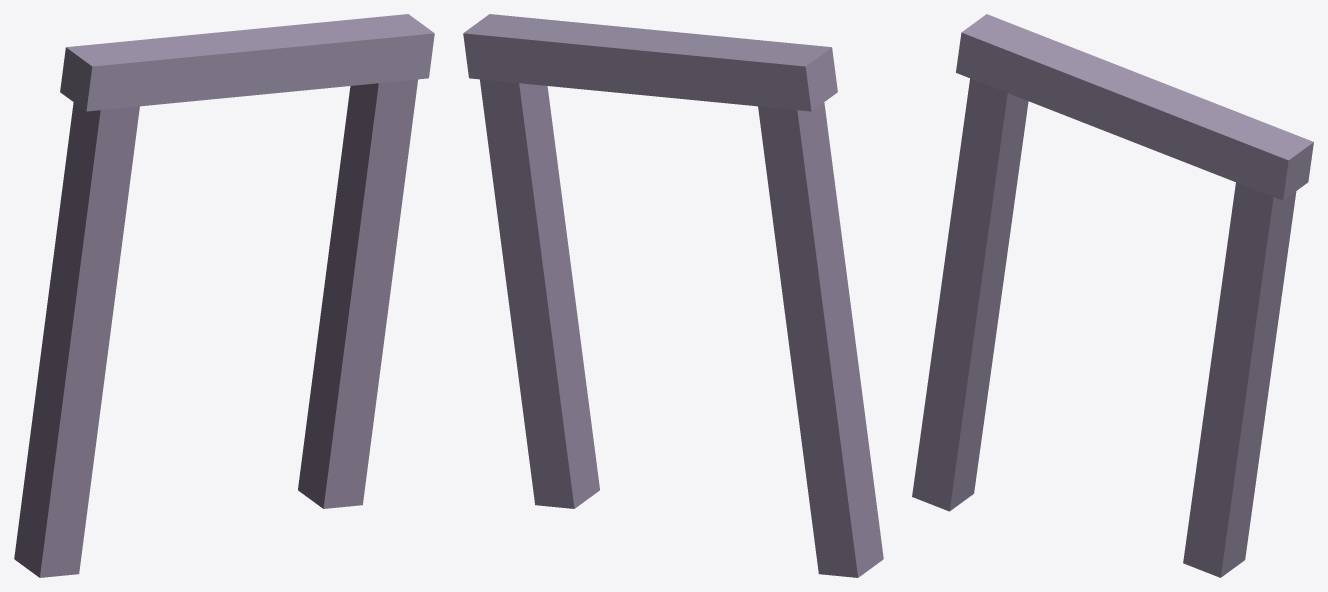
The model's file is IR_LooseDoor.glb.
3 renders of one model, left to right at view 1: azimuth 30°, elevation 25°; view 2: azimuth 150°, elevation 25°; view 3: azimuth 330°, elevation 25°, orthographic. The views are drawn at different scales.
Visible parts, largest first — view 1: IR_LooseDoor; view 2: IR_LooseDoor; view 3: IR_LooseDoor.
Part boxes in pixels (left/top/right/bottom): IR_LooseDoor: left=14, top=14, right=434, bottom=577; IR_LooseDoor: left=463, top=14, right=883, bottom=577; IR_LooseDoor: left=912, top=14, right=1313, bottom=577.
Size of the model in its own units: 8.44 by 10.33 by 0.98.
1 material, 1 textured.
